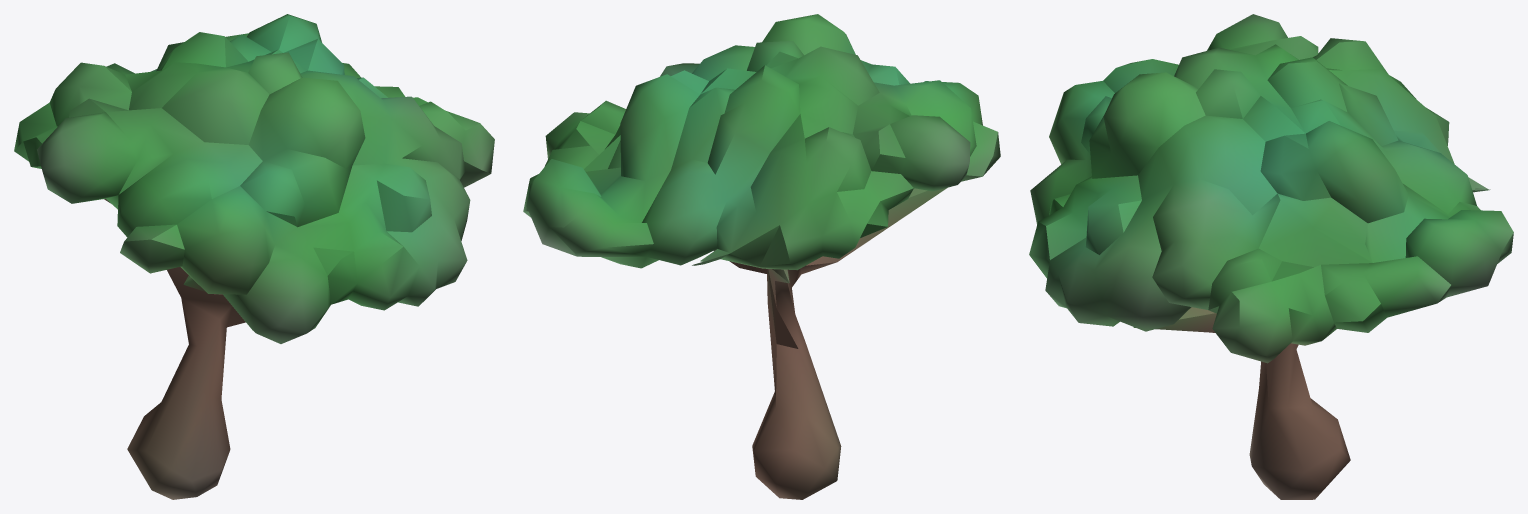
The model's file is tree.glb.
3 views of the same model, side by side, from view 1: azimuth 30°, elevation 25°; view 2: azimuth 150°, elevation 25°; view 3: azimuth 270°, elevation 25° (orthographic). The views are drawn at different scales.
Parts seen in each view (by area): view 1: Merged_PM3D_Sphere3D3; view 2: Merged_PM3D_Sphere3D3; view 3: Merged_PM3D_Sphere3D3.
Boxes of the visible parts, x1=… form: Merged_PM3D_Sphere3D3: x1=14, y1=14, x2=494, y2=499; Merged_PM3D_Sphere3D3: x1=523, y1=14, x2=1000, y2=499; Merged_PM3D_Sphere3D3: x1=1029, y1=14, x2=1513, y2=499.
Size of the model in its own units: 5.29 by 5.1 by 4.98.
